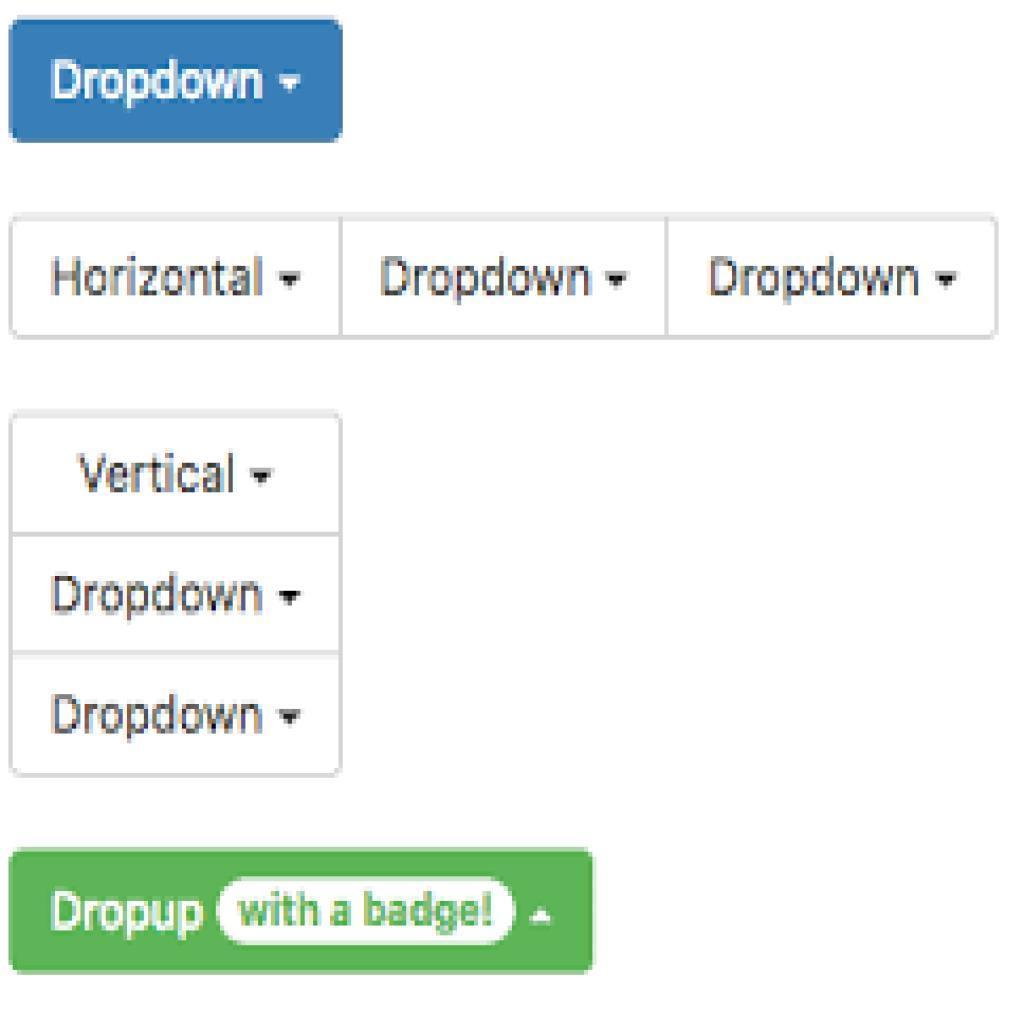dropdown: (10, 847, 594, 976), (10, 19, 343, 144), (13, 653, 342, 776), (11, 415, 342, 535), (341, 217, 668, 338), (669, 218, 997, 338), (11, 217, 342, 335), (12, 537, 340, 653)
